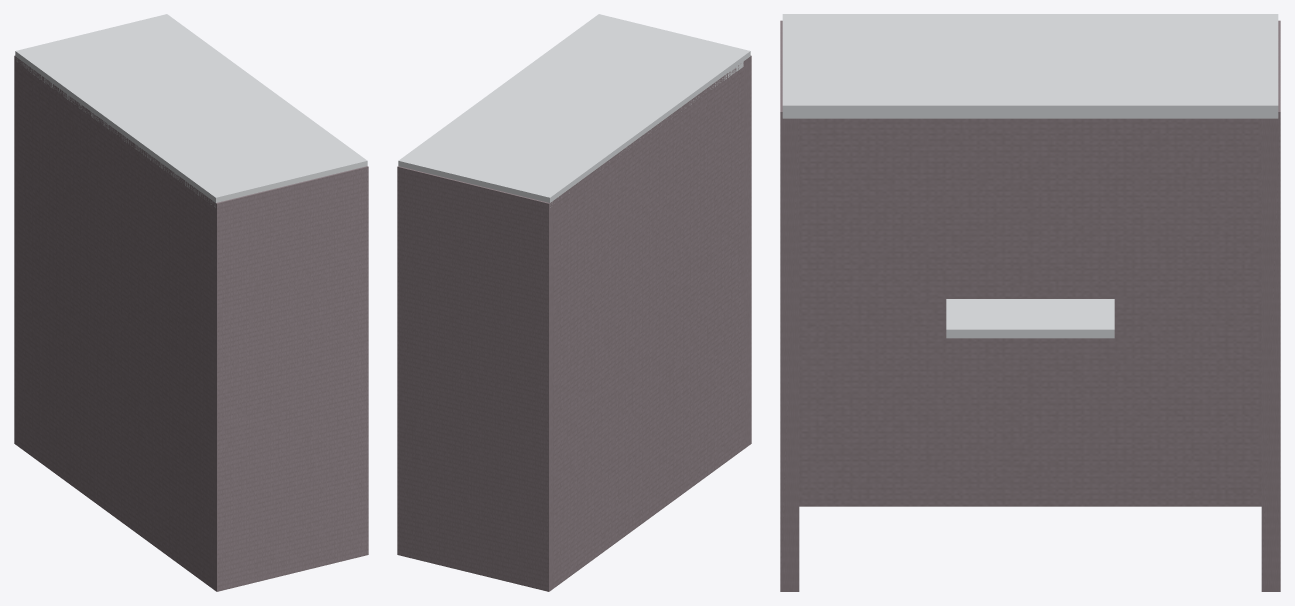
The model's file is mood_checkin_kiosk.glb.
3 views of the same model, side by side, from view 1: azimuth 30°, elevation 25°; view 2: azimuth 150°, elevation 25°; view 3: azimuth 270°, elevation 25° (orthographic). The views are drawn at different scales.
Visible parts, largest first — view 1: fabric_kiosk, white_plastic; view 2: fabric_kiosk, white_plastic; view 3: fabric_kiosk, white_plastic.
Part boxes in pixels (x1=…): fabric_kiosk: x1=14, y1=55, x2=368, y2=591; white_plastic: x1=15, y1=14, x2=367, y2=207; fabric_kiosk: x1=397, y1=55, x2=751, y2=591; white_plastic: x1=398, y1=14, x2=750, y2=207; fabric_kiosk: x1=780, y1=20, x2=1280, y2=591; white_plastic: x1=782, y1=14, x2=1278, y2=338.
Bounding box in the file's own units: 0.9 × 2.23 × 2.08.
2 materials, 1 textured.
